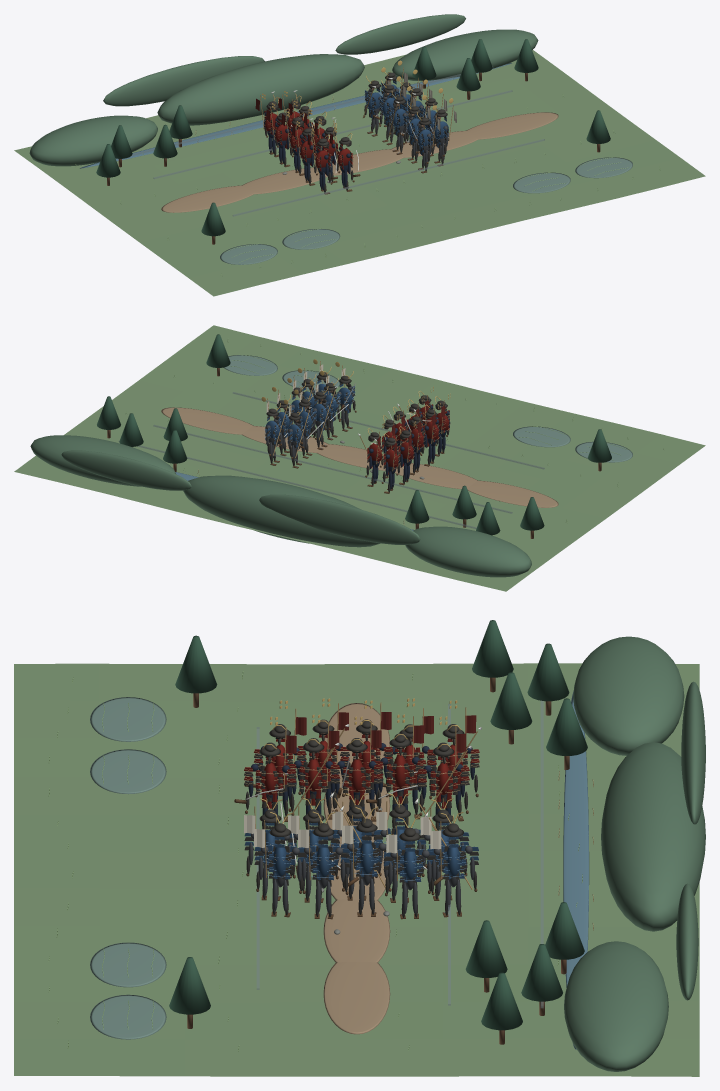
The model's file is samurai_battlefield_pack.glb.
3 renders of one model, top to bottom at view 1: azimuth 30°, elevation 25°; view 2: azimuth 150°, elevation 25°; view 3: azimuth 270°, elevation 25°, orthographic. The views are drawn at different scales.
Visible parts, largest first — view 1: rolling shinano countryside battlefield ground, distant center mountain ridge, distant left cedar hill, distant right cedar hill, far blue shinano mountain silhouette, far right shinano mountain silhouette, narrow blue river channel, worn muddy road oval.004, worn muddy road oval, worn muddy road oval.001, flooded rice paddy 3, flooded rice paddy 4 (+17 smaller); view 2: rolling shinano countryside battlefield ground, distant center mountain ridge, distant left cedar hill, far blue shinano mountain silhouette, distant right cedar hill, far right shinano mountain silhouette, worn muddy road oval, worn muddy road oval.004, worn muddy road oval.001, flooded rice paddy 2, worn muddy road oval.002, flooded rice paddy 4 (+16 smaller); view 3: rolling shinano countryside battlefield ground, distant center mountain ridge, distant right cedar hill, distant left cedar hill, narrow blue river channel, worn muddy road oval.004, worn muddy road oval.003, far blue shinano mountain silhouette, flooded rice paddy 3, flooded rice paddy 4, flooded rice paddy 2, flooded rice paddy 1 (+15 smaller).
Part boxes in pixels (bbox=[...]): rolling shinano countryside battlefield ground: bbox=[14, 50, 705, 296]; distant center mountain ridge: bbox=[157, 54, 364, 125]; distant left cedar hill: bbox=[29, 115, 157, 166]; distant right cedar hill: bbox=[392, 29, 538, 81]; far blue shinano mountain silhouette: bbox=[103, 56, 264, 106]; far right shinano mountain silhouette: bbox=[335, 14, 465, 54]; narrow blue river channel: bbox=[80, 63, 511, 168]; worn muddy road oval.004: bbox=[466, 112, 558, 139]; worn muddy road oval: bbox=[161, 185, 253, 212]; worn muddy road oval.001: bbox=[242, 167, 327, 194]; flooded rice paddy 3: bbox=[513, 172, 570, 193]; flooded rice paddy 4: bbox=[575, 157, 632, 178]; rolling shinano countryside battlefield ground: bbox=[14, 325, 705, 591]; distant center mountain ridge: bbox=[183, 475, 380, 547]; distant left cedar hill: bbox=[405, 526, 531, 577]; far blue shinano mountain silhouette: bbox=[259, 494, 420, 544]; distant right cedar hill: bbox=[30, 435, 175, 486]; far right shinano mountain silhouette: bbox=[61, 450, 191, 490]; worn muddy road oval: bbox=[467, 480, 558, 507]; worn muddy road oval.004: bbox=[161, 407, 253, 434]; worn muddy road oval.001: bbox=[395, 463, 477, 489]; flooded rice paddy 2: bbox=[513, 426, 570, 447]; worn muddy road oval.002: bbox=[317, 444, 400, 470]; flooded rice paddy 4: bbox=[224, 355, 277, 375]; rolling shinano countryside battlefield ground: bbox=[14, 663, 699, 1076]; distant center mountain ridge: bbox=[601, 742, 705, 931]; distant right cedar hill: bbox=[564, 941, 668, 1071]; distant left cedar hill: bbox=[573, 636, 684, 755]; narrow blue river channel: bbox=[563, 691, 589, 1049]; worn muddy road oval.004: bbox=[323, 962, 390, 1034]; worn muddy road oval.003: bbox=[323, 899, 390, 962]; far blue shinano mountain silhouette: bbox=[681, 681, 705, 824]; flooded rice paddy 3: bbox=[90, 942, 166, 987]; flooded rice paddy 4: bbox=[90, 994, 166, 1039]; flooded rice paddy 2: bbox=[90, 749, 166, 794]; flooded rice paddy 1: bbox=[90, 697, 166, 741].
Size of the model in its own units: 16.1 by 2.32 by 11.2.
